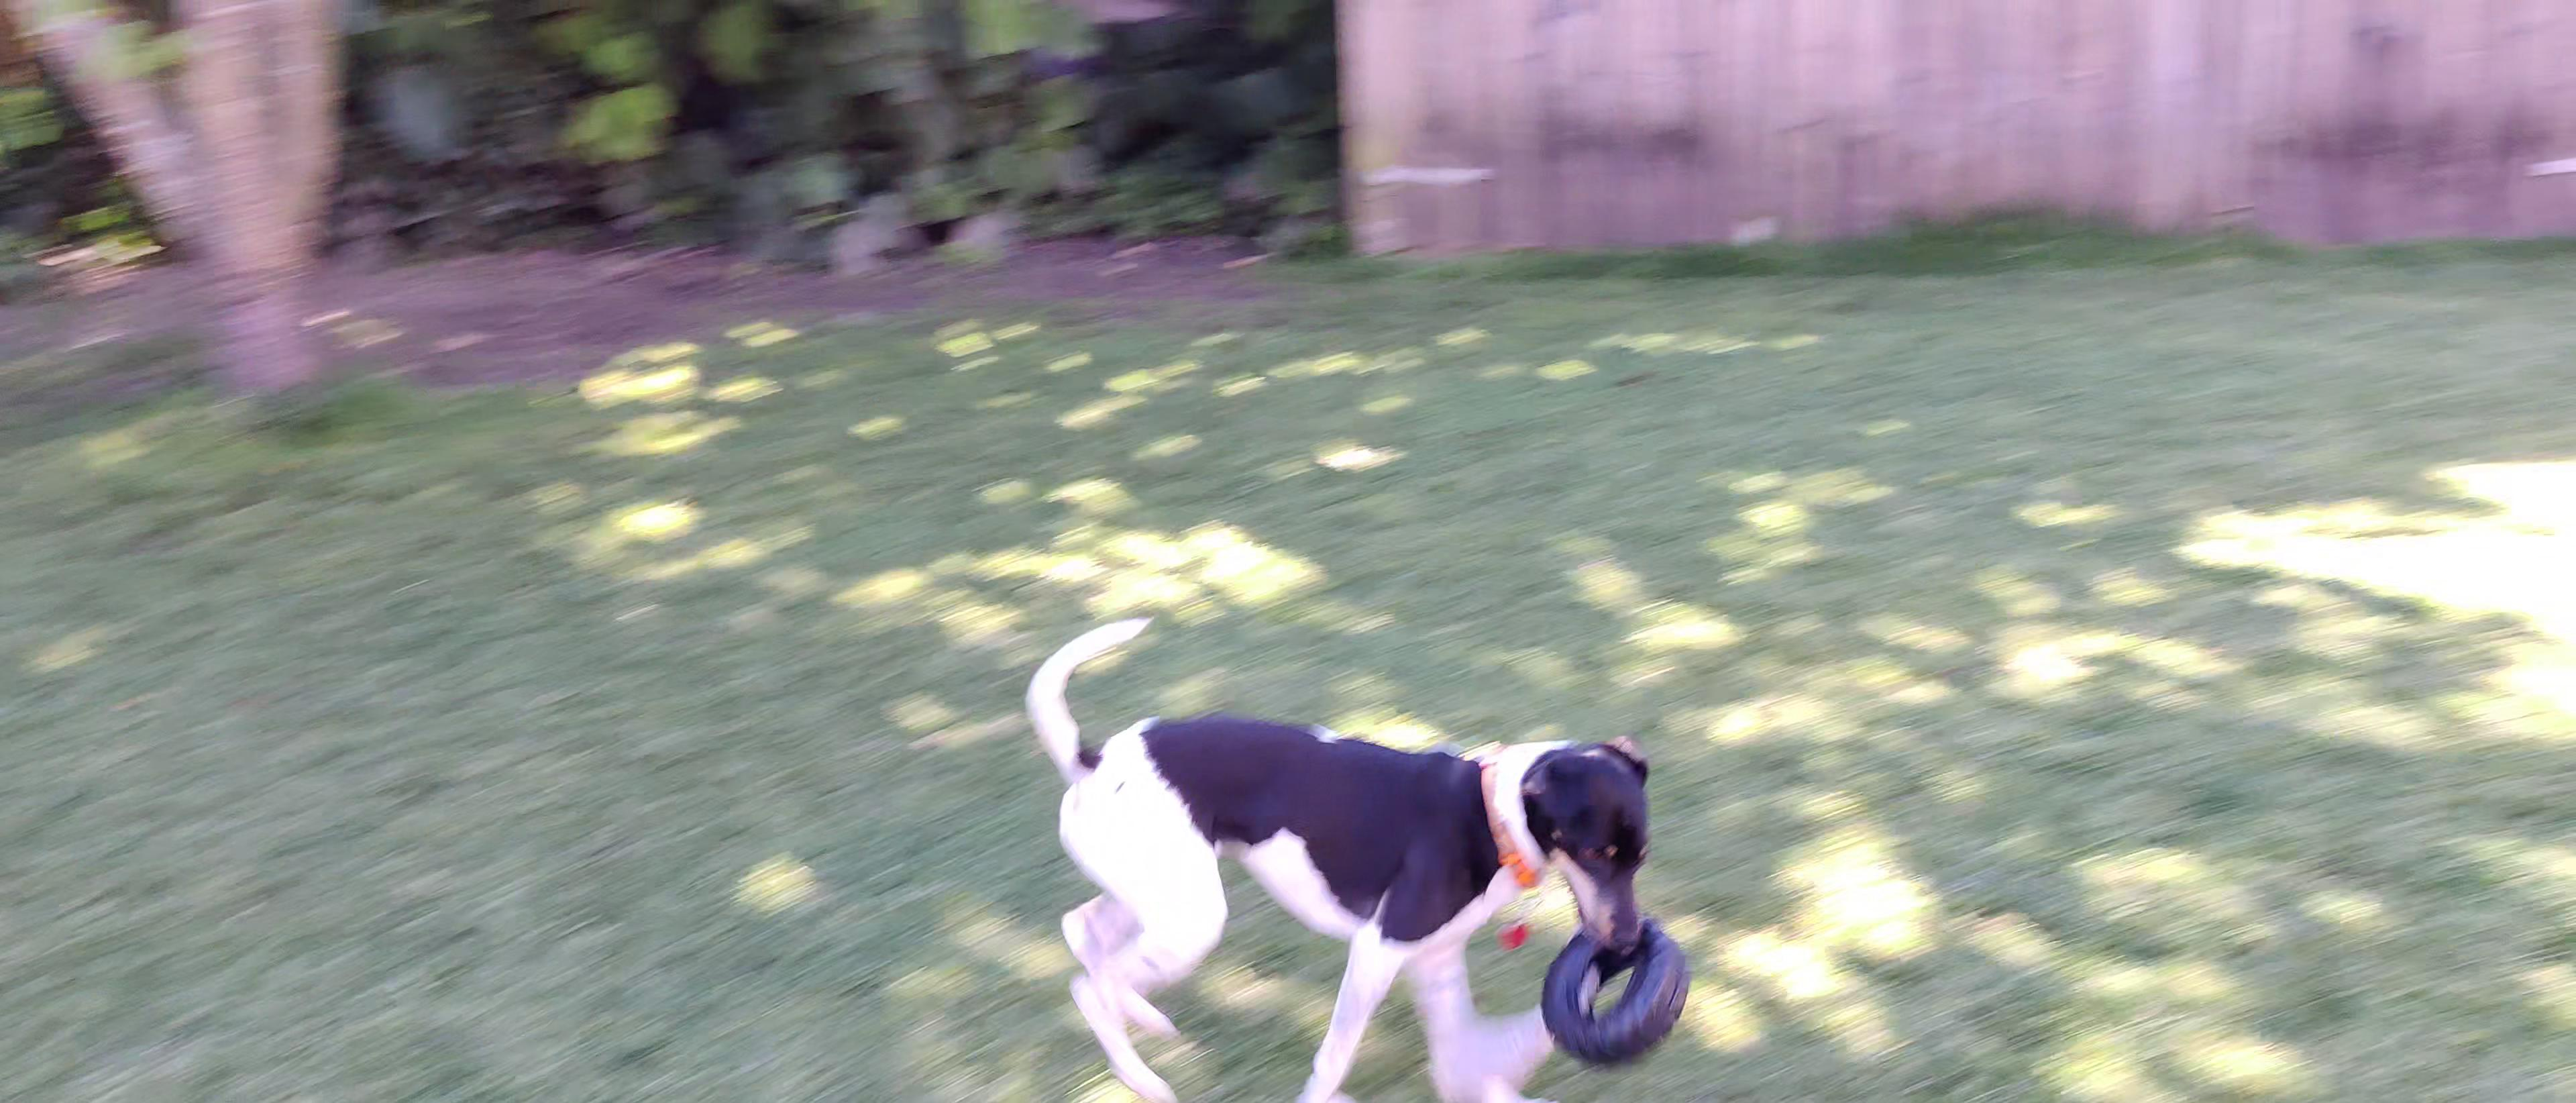Dog: (1022, 616, 1664, 1103)
